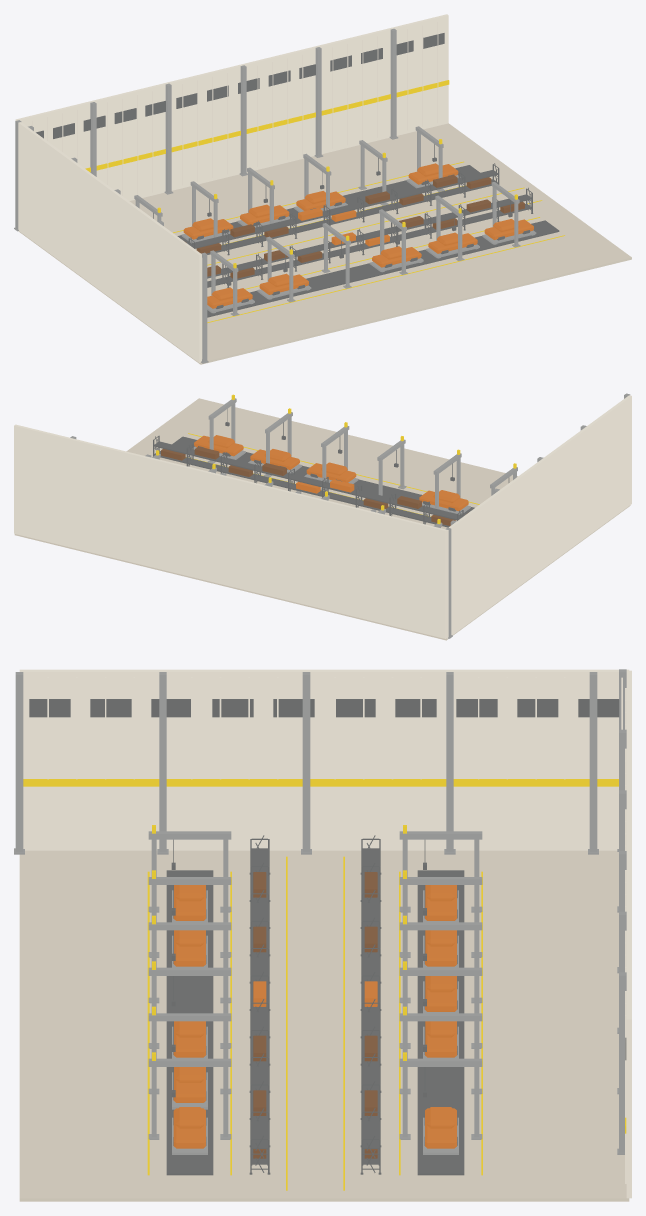
Rendered from automotive.glb.
The picture shows the model from 3 angles, top to bottom: view 1: azimuth 30°, elevation 25°; view 2: azimuth 150°, elevation 25°; view 3: azimuth 270°, elevation 25°; orthographic projection. The views are drawn at different scales.
Visible parts, largest first — view 1: hall_floor, hall_wall_y, hall_wall_x, hall_cols_y, hall_wall_y_windows, line_0_conveyor, hall_wall_y_band, kit_1_deck_1, kit_0_deck_0, kit_1_deck_0, kit_0_deck_1, line_1_conveyor (+22 smaller); view 2: hall_wall_y, hall_wall_x, hall_floor, kit_0_deck_1, kit_0_deck_0, line_0_conveyor, car_0_3_body, car_0_1_body, car_0_5_body, car_0_4_body, station_0_2_gantry, station_0_5_gantry (+6 smaller); view 3: hall_floor, hall_wall_x, hall_cols_x, hall_wall_x_windows, line_1_conveyor, line_0_conveyor, hall_wall_x_band, kit_1_deck_1, kit_0_deck_1, hall_wall_y, hall_cols_y, station_0_5_gantry (+22 smaller).
Part boxes in pixels (x1=…): hall_floor: x1=18, y1=123, x2=631, y2=364; hall_wall_y: x1=15, y1=14, x2=448, y2=200; hall_wall_x: x1=15, y1=120, x2=202, y2=362; hall_cols_y: x1=14, y1=28, x2=398, y2=231; hall_wall_y_windows: x1=36, y1=33, x2=444, y2=138; line_0_conveyor: x1=207, y1=220, x2=559, y2=317; hall_wall_y_band: x1=85, y1=80, x2=449, y2=172; kit_1_deck_1: x1=188, y1=170, x2=497, y2=247; kit_0_deck_0: x1=207, y1=203, x2=531, y2=286; kit_1_deck_0: x1=206, y1=179, x2=497, y2=254; kit_0_deck_1: x1=207, y1=194, x2=531, y2=277; line_1_conveyor: x1=177, y1=165, x2=479, y2=243; hall_wall_y: x1=14, y1=424, x2=446, y2=638; hall_wall_x: x1=446, y1=395, x2=631, y2=638; hall_floor: x1=14, y1=398, x2=630, y2=640; kit_0_deck_1: x1=154, y1=441, x2=463, y2=519; kit_0_deck_0: x1=154, y1=451, x2=449, y2=526; line_0_conveyor: x1=172, y1=436, x2=474, y2=515; car_0_3_body: x1=306, y1=462, x2=356, y2=482; car_0_1_body: x1=419, y1=490, x2=468, y2=511; car_0_5_body: x1=194, y1=435, x2=243, y2=456; car_0_4_body: x1=250, y1=449, x2=299, y2=469; station_0_2_gantry: x1=377, y1=439, x2=406, y2=495; station_0_5_gantry: x1=207, y1=398, x2=236, y2=463; hall_floor: x1=19, y1=850, x2=629, y2=1201; hall_wall_x: x1=19, y1=669, x2=629, y2=850; hall_cols_x: x1=14, y1=672, x2=598, y2=854; hall_wall_x_windows: x1=29, y1=699, x2=619, y2=717; line_1_conveyor: x1=417, y1=870, x2=464, y2=1175; line_0_conveyor: x1=166, y1=870, x2=213, y2=1175; hall_wall_x_band: x1=23, y1=779, x2=618, y2=786; kit_1_deck_1: x1=362, y1=848, x2=379, y2=1148; kit_0_deck_1: x1=251, y1=848, x2=268, y2=1148; hall_wall_y: x1=625, y1=670, x2=631, y2=1198; hall_cols_y: x1=617, y1=669, x2=626, y2=1154; station_0_5_gantry: x1=148, y1=1058, x2=231, y2=1139.
Bounding box in the file's own units: 46.31 × 11.22 × 34.46.
